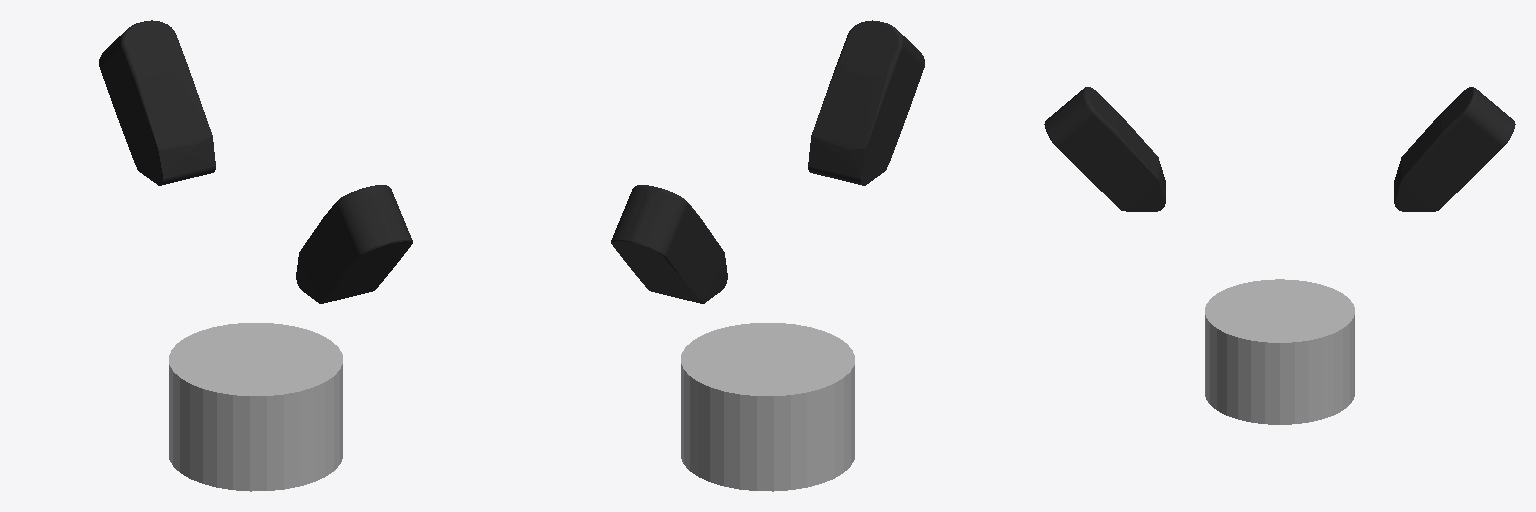
URDF robot description (rh_p12_rn):
<?xml version="1.0" ?>
<!-- =================================================================================== -->
<!-- |    This document was autogenerated by xacro from RH-P12-RN/rh_p12_rn_description/urdf/rh_p12_rn.xacro | -->
<!-- |    EDITING THIS FILE BY HAND IS NOT RECOMMENDED                                 | -->
<!-- =================================================================================== -->
<robot name="rh_p12_rn" xmlns:xacro="http://www.ros.org/wiki/xacro">
  <!-- ros_control plugin -->
  <gazebo>
    <plugin filename="libgazebo_ros_control.so" name="gazebo_ros_control">
      <robotNamespace>/rh_p12_rn</robotNamespace>
      <robotSimType>gazebo_ros_control/DefaultRobotHWSim</robotSimType>
      <legacyModeNS>true</legacyModeNS>
    </plugin>
  </gazebo>
  <!-- World -->
  <gazebo reference="world">
  </gazebo>
  <!-- rh_p12_rn_base -->
  <gazebo reference="rh_p12_rn_base">
    <mu1>0.2</mu1>
    <mu2>0.2</mu2>
    <material>Gazebo/Grey</material>
  </gazebo>
  <!-- rh_p12_rn_r1 -->
  <gazebo reference="rh_p12_rn_r1">
    <mu1>0.2</mu1>
    <mu2>0.2</mu2>
    <material>Gazebo/Grey</material>
  </gazebo>
  <!-- rh_p12_rn_r2 -->
  <gazebo reference="rh_p12_rn_r2">
    <mu1>0.2</mu1>
    <mu2>0.2</mu2>
    <material>Gazebo/Grey</material>
  </gazebo>
  <!-- rh_p12_rn_l1 -->
  <gazebo reference="rh_p12_rn_l1">
    <mu1>0.2</mu1>
    <mu2>0.2</mu2>
    <material>Gazebo/Grey</material>
  </gazebo>
  <!-- rh_p12_rn_l2 -->
  <gazebo reference="rh_p12_rn_l2">
    <mu1>0.2</mu1>
    <mu2>0.2</mu2>
    <material>Gazebo/Grey</material>
  </gazebo>
  <material name="black">
    <color rgba="0.0 0.0 0.0 1.0"/>
  </material>
  <material name="blue">
    <color rgba="0.0 0.0 0.8 1.0"/>
  </material>
  <material name="green">
    <color rgba="0.0 0.8 0.0 1.0"/>
  </material>
  <material name="grey">
    <color rgba="0.2 0.2 0.2 1.0"/>
  </material>
  <material name="silver">
    <color rgba="0.75 0.75 0.75 1.0"/>
  </material>
  <material name="orange">
    <color rgba="1.0 0.4235294117647059 0.0392156862745098 1.0"/>
  </material>
  <material name="brown">
    <color rgba="0.8705882352941177 0.8117647058823529 0.7647058823529411 1.0"/>
  </material>
  <material name="red">
    <color rgba="0.8 0.0 0.0 1.0"/>
  </material>
  <material name="white">
    <color rgba="1.0 1.0 1.0 1.0"/>
  </material>
  <!-- base -->
  <link name="rh_p12_rn_mount">
    <collision>
      <origin rpy="0 0 0" xyz="0 0 0"/>
      <geometry>
        <mesh filename="package://rh_p12_rn_description/meshes/mount.stl" scale="0.001 0.001 0.001"/>
      </geometry>
    </collision>
    <visual>
      <origin rpy="0 0 0" xyz="0 0 0"/>
      <geometry>
        <mesh filename="package://rh_p12_rn_description/meshes/mount.stl" scale="0.001 0.001 0.001"/>
      </geometry>
      <material name="silver"/>
    </visual>
    <inertial>
      <origin rpy="0 0 0" xyz="0.000 0.000 0.000"/>
      <mass value="0.0"/>
      <!--<inertia ixx="0.00017" ixy="0.0" ixz="0.0" iyy="0.00011" iyz="0.0" izz="0.00017" />-->
      <inertia ixx="0.0" ixy="0.0" ixz="0.0" iyy="0.0" iyz="0.0" izz="0.0"/>
    </inertial>
  </link>
  <link name="rh_p12_rn_base">
    <collision>
      <origin rpy="0 0 0" xyz="0 0 0"/>
      <geometry>
        <mesh filename="package://rh_p12_rn_description/meshes/base.stl" scale="0.001 0.001 0.001"/>
      </geometry>
    </collision>
    <visual>
      <origin rpy="0 0 0" xyz="0 0 0"/>
      <geometry>
        <mesh filename="package://rh_p12_rn_description/meshes/base.stl" scale="0.001 0.001 0.001"/>
      </geometry>
      <material name="grey"/>
    </visual>
    <inertial>
      <origin rpy="0 0 0" xyz="0.000 0.000 0.032"/>
      <mass value="0.236"/>
      <!--<inertia ixx="0.00017" ixy="0.0" ixz="0.0" iyy="0.00011" iyz="0.0" izz="0.00017" />-->
      <inertia ixx="1.0" ixy="0.0" ixz="0.0" iyy="1.0" iyz="0.0" izz="1.0"/>
    </inertial>
  </link>
  <!-- Joint -->
  <joint name="rh_mount" type="fixed">
    <parent link="rh_p12_rn_mount"/>
    <child link="rh_p12_rn_base"/>
    <origin rpy="0.0 0 0" xyz="0.0 0.0 0.045"/>
    <!-- <origin rpy="0 0 0" xyz="0.0 -0.0493634 0.0285"/> -->
    <axis xyz="1 0 0"/>
    <limit effort="20" lower="0.0" upper="1.0" velocity="6.5"/>
    <!-- <dynamics damping="0.7"/> -->
  </joint>
  <joint name="rh_r1" type="revolute">
    <parent link="rh_p12_rn_base"/>
    <child link="rh_p12_rn_r1"/>
    <origin rpy="0 0 0" xyz="0.0 0.008 0.048"/>
    <axis xyz="1 0 0"/>
    <limit effort="20" lower="0.0" upper="1.1" velocity="6.5"/>
    <!-- <dynamics damping="0.7"/> -->
  </joint>
  <transmission name="tran_r1">
    <type>transmission_interface/SimpleTransmission</type>
    <joint name="rh_r1">
      <hardwareInterface>hardware_interface/EffortJointInterface</hardwareInterface>
    </joint>
    <actuator name="motor_r1">
      <hardwareInterface>hardware_interface/EffortJointInterface</hardwareInterface>
      <mechanicalReduction>1</mechanicalReduction>
    </actuator>
  </transmission>
  <!-- rh_p12_rn_r1 -->
  <link name="rh_p12_rn_r1">
    <collision>
      <origin rpy="0 0 0" xyz="0 0 0"/>
      <geometry>
        <mesh filename="package://rh_p12_rn_description/meshes/r1.stl" scale="0.001 0.001 0.001"/>
      </geometry>
    </collision>
    <visual>
      <origin rpy="0 0 0" xyz="0 0 0"/>
      <geometry>
        <mesh filename="package://rh_p12_rn_description/meshes/r1.stl" scale="0.001 0.001 0.001"/>
      </geometry>
      <material name="grey"/>
    </visual>
    <inertial>
      <origin rpy="0 0 0" xyz="0.000 0.034 0.004"/>
      <mass value="0.068"/>
      <!--<inertia ixx="0.00004" ixy="0.0" ixz="0.0" iyy="0.00002" iyz="-0.00001" izz="0.00002" />-->
      <inertia ixx="1.0" ixy="0.0" ixz="0.0" iyy="1.0" iyz="0.0" izz="1.0"/>
    </inertial>
  </link>
  <!-- Right Joint 2 -->
  <joint name="rh_r2" type="fixed">
    <parent link="rh_p12_rn_r1"/>
    <child link="rh_p12_rn_r2"/>
    <origin rpy="-0.75 0 0" xyz="0.0 0.0493634 0.0285"/>
    <!-- <origin rpy="0 0 0" xyz="0.0 0.0493634 0.0285"/> -->
    <axis xyz="-1 0 0"/>
    <limit effort="20" lower="0.0" upper="1.0" velocity="6.5"/>
    <!-- <dynamics damping="0.7"/> -->
  </joint>
  <transmission name="tran_r2">
    <type>transmission_interface/SimpleTransmission</type>
    <joint name="rh_r2">
      <hardwareInterface>hardware_interface/EffortJointInterface</hardwareInterface>
    </joint>
    <actuator name="motor_r2">
      <hardwareInterface>hardware_interface/EffortJointInterface</hardwareInterface>
      <mechanicalReduction>1</mechanicalReduction>
    </actuator>
  </transmission>
  <!-- rh_p12_rn_r2 -->
  <link name="rh_p12_rn_r2">
    <collision>
      <origin rpy="0 0 0" xyz="0 0 0"/>
      <geometry>
        <mesh filename="package://rh_p12_rn_description/meshes/r2_digit_mount_scaled_collision.stl" scale="0.001 0.001 0.001"/>
      </geometry>
    </collision>
    <visual>
      <origin rpy="0 0 0" xyz="0 0 0"/>
      <geometry>
        <mesh filename="package://rh_p12_rn_description/meshes/r2_digit_mount_scaled_collision.stl" scale="0.001 0.001 0.001"/>
      </geometry>
      <material name="grey"/>
    </visual>
    <inertial>
      <origin rpy="0 0 0" xyz="0.000 0.006 0.011"/>
      <mass value="0.022"/>
      <!--<inertia ixx="0.0" ixy="0.0" ixz="0.0" iyy="0.00001" iyz="0.0" izz="0.0" />-->
      <inertia ixx="1.0" ixy="0.0" ixz="0.0" iyy="1.0" iyz="0.0" izz="1.0"/>
    </inertial>
  </link>
  <!-- Left Joint 1 -->
  <joint name="rh_l1" type="revolute">
    <parent link="rh_p12_rn_base"/>
    <child link="rh_p12_rn_l1"/>
    <origin rpy="0 0 0" xyz="0.0 -0.008 0.048"/>
    <axis xyz="-1 0 0"/>
    <limit effort="20" lower="0.0" upper="1.1" velocity="6.5"/>
    <!-- <dynamics damping="0.7"/> -->
  </joint>
  <transmission name="tran_l1">
    <type>transmission_interface/SimpleTransmission</type>
    <joint name="rh_l1">
      <hardwareInterface>hardware_interface/EffortJointInterface</hardwareInterface>
    </joint>
    <actuator name="motor_l1">
      <hardwareInterface>hardware_interface/EffortJointInterface</hardwareInterface>
      <mechanicalReduction>1</mechanicalReduction>
    </actuator>
  </transmission>
  <!-- rh_p12_rn_l1 -->
  <link name="rh_p12_rn_l1">
    <collision>
      <origin rpy="0 0 0" xyz="0 0 0"/>
      <geometry>
        <mesh filename="package://rh_p12_rn_description/meshes/l1.stl" scale="0.001 0.001 0.001"/>
      </geometry>
    </collision>
    <visual>
      <origin rpy="0 0 0" xyz="0 0 0"/>
      <geometry>
        <mesh filename="package://rh_p12_rn_description/meshes/l1.stl" scale="0.001 0.001 0.001"/>
      </geometry>
      <material name="grey"/>
    </visual>
    <inertial>
      <origin rpy="0 0 0" xyz="0.000 -0.034 0.004"/>
      <mass value="0.068"/>
      <!--<inertia ixx="0.00004" ixy="0.0" ixz="0.0" iyy="0.00002" iyz="0.00001" izz="0.00002" />-->
      <inertia ixx="1.0" ixy="0.0" ixz="0.0" iyy="1.0" iyz="0.0" izz="1.0"/>
    </inertial>
  </link>
  <!-- Left Joint 2 -->
  <joint name="rh_l2" type="fixed">
    <parent link="rh_p12_rn_l1"/>
    <child link="rh_p12_rn_l2"/>
    <origin rpy="0.75 0 0" xyz="0.0 -0.0493634 0.0285"/>
    <!-- <origin rpy="0 0 0" xyz="0.0 -0.0493634 0.0285"/> -->
    <axis xyz="1 0 0"/>
    <limit effort="20" lower="0.0" upper="1.0" velocity="6.5"/>
    <!-- <dynamics damping="0.7"/> -->
  </joint>
  <transmission name="tran_l2">
    <type>transmission_interface/SimpleTransmission</type>
    <joint name="rh_l2">
      <hardwareInterface>hardware_interface/EffortJointInterface</hardwareInterface>
    </joint>
    <actuator name="motor_l2">
      <hardwareInterface>hardware_interface/EffortJointInterface</hardwareInterface>
      <mechanicalReduction>1</mechanicalReduction>
    </actuator>
  </transmission>
  <!-- rh_p12_rn_l2 -->
  <link name="rh_p12_rn_l2">
    <collision>
      <origin rpy="0 0 0" xyz="0 0 0"/>
      <geometry>
        <mesh filename="package://rh_p12_rn_description/meshes/l2_digit_mount_scaled_collision.stl" scale="0.001 0.001 0.001"/>
      </geometry>
    </collision>
    <visual>
      <origin rpy="0 0 0" xyz="0 0 0"/>
      <geometry>
        <mesh filename="package://rh_p12_rn_description/meshes/l2_digit_mount_scaled_collision.stl" scale="0.001 0.001 0.001"/>
      </geometry>
      <material name="grey"/>
    </visual>
    <inertial>
      <origin rpy="0 0 0" xyz="0.000 -0.006 0.011"/>
      <mass value="0.022"/>
      <!--<inertia ixx="0.0" ixy="0.0" ixz="0.0" iyy="0.00001" iyz="0.0" izz="0.0" />-->
      <inertia ixx="1.0" ixy="0.0" ixz="0.0" iyy="1.0" iyz="0.0" izz="1.0"/>
    </inertial>
  </link>
  <joint name="tcp" type="fixed">
    <origin xyz="0 0 0.145" rpy="0 0 0"/>
    <parent link="rh_p12_rn_base"/>
    <child link="tcp"/>
  </joint>
  <link name="tcp">
    <inertial>
      <mass value="0"/>
      <inertia ixx="0.0" ixy="0.0" ixz="0.0" iyy="0.0" iyz="0.0" izz="0.0"/>
    </inertial>
  </link>
</robot>

--- Render facts (derived) ---
The picture shows the robot from 3 angles, left to right: view 1: azimuth 30°, elevation 25°; view 2: azimuth 150°, elevation 25°; view 3: azimuth 270°, elevation 25°; orthographic projection.
Robot: rh_p12_rn — 7 links, 6 joints (2 revolute, 4 fixed); root link rh_p12_rn_mount; default pose: every joint at zero.
Visible links, largest first — view 1: rh_p12_rn_mount, rh_p12_rn_r2, rh_p12_rn_l2; view 2: rh_p12_rn_mount, rh_p12_rn_l2, rh_p12_rn_r2; view 3: rh_p12_rn_mount, rh_p12_rn_l2, rh_p12_rn_r2.
Link boxes in pixels (x1,y1,x2,y2): rh_p12_rn_mount: (169,323,342,491); rh_p12_rn_r2: (99,20,215,185); rh_p12_rn_l2: (296,185,412,303); rh_p12_rn_mount: (681,323,854,491); rh_p12_rn_l2: (808,20,924,185); rh_p12_rn_r2: (611,185,727,303); rh_p12_rn_mount: (1205,279,1354,424); rh_p12_rn_l2: (1044,87,1165,211); rh_p12_rn_r2: (1394,87,1515,211).
Size in the robot's own frame: 0.075 by 0.2343 by 0.1656 metres.
Meshes: 6 distinct files referenced, 3 mesh visuals loaded (3 binary STL); not drawn: 3 (reference not matched to a file when rendering).